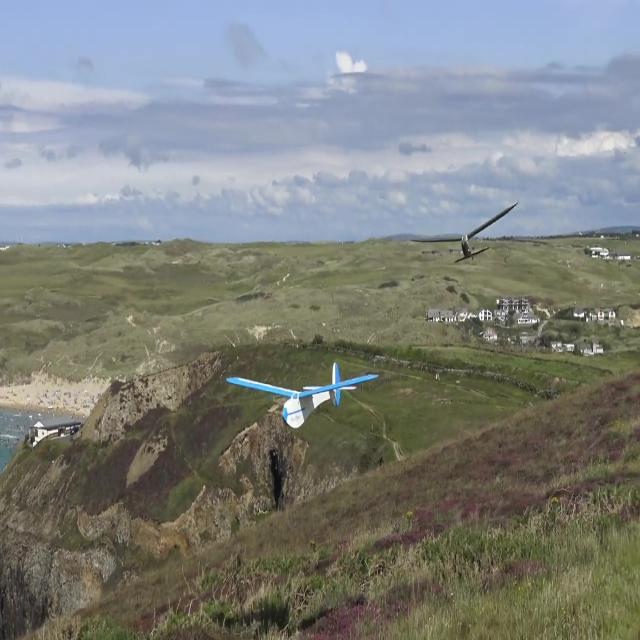iha: (225, 386, 380, 392)
